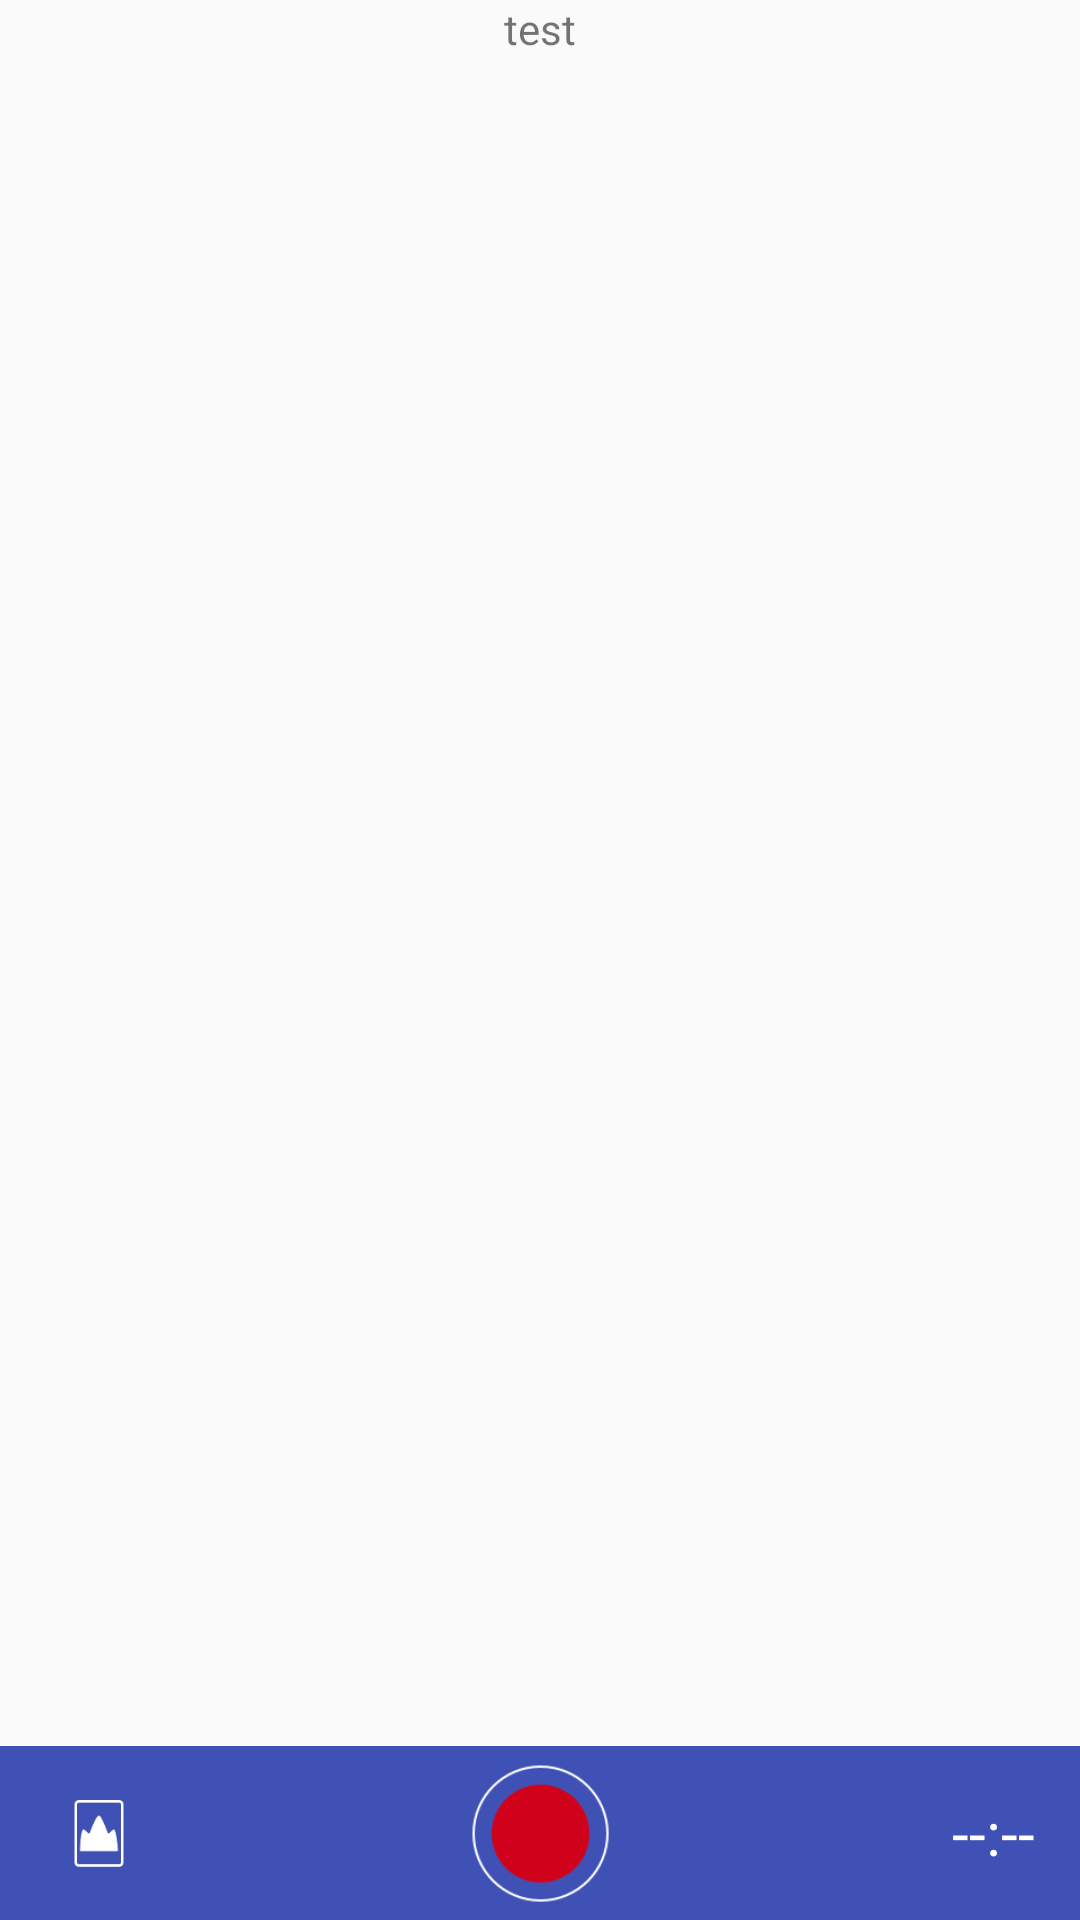

Icon click points for this 1080x1920 phone screenshot, format (x=x, y=y):
record: (x=540, y=1833)
